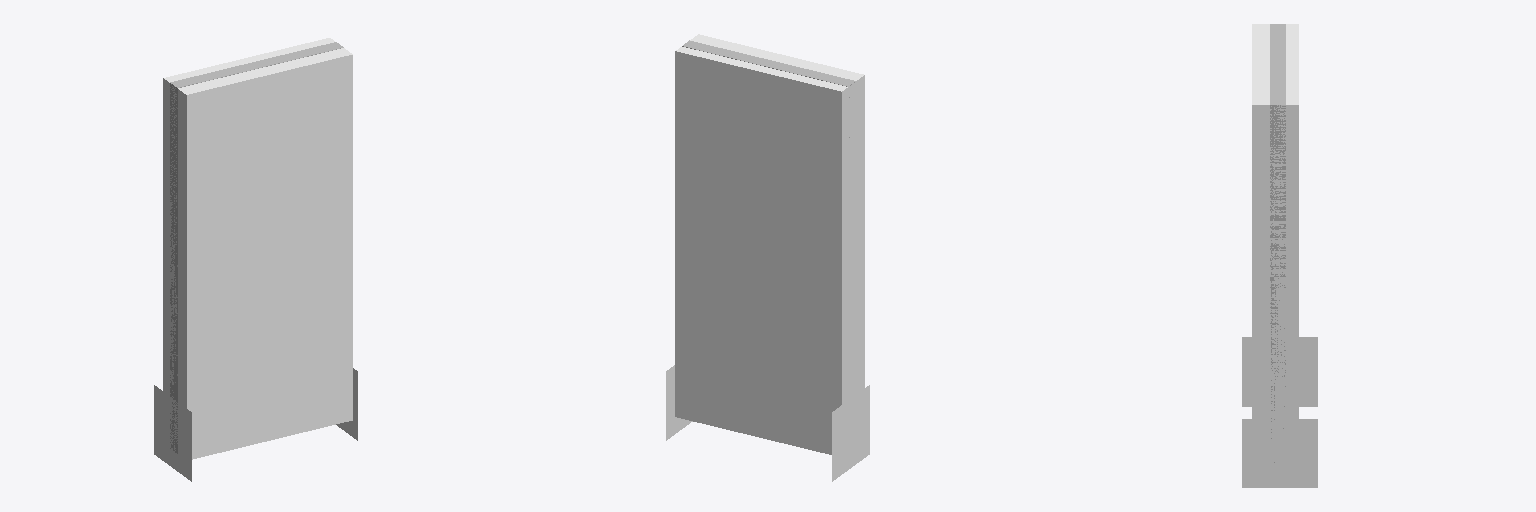
Rendered from door.obj.
The picture shows the model from 3 angles: view 1: azimuth 30°, elevation 25°; view 2: azimuth 150°, elevation 25°; view 3: azimuth 270°, elevation 25°; orthographic projection.
Visible parts, largest first — view 1: CTRL_Hole, DoorFrame, CTRL_Baseboard; view 2: CTRL_Hole, CTRL_Baseboard, DoorFrame; view 3: CTRL_Hole, CTRL_Baseboard, DoorFrame.
Part boxes in pixels (x1,y1,x2,y2): CTRL_Hole: (163, 38, 352, 460); DoorFrame: (170, 42, 343, 453); CTRL_Baseboard: (154, 368, 357, 481); CTRL_Hole: (675, 34, 864, 456); CTRL_Baseboard: (666, 365, 869, 481); DoorFrame: (682, 40, 855, 137); CTRL_Hole: (1252, 24, 1298, 470); CTRL_Baseboard: (1242, 337, 1317, 487); DoorFrame: (1270, 24, 1285, 462).
Bounding box in the file's own units: 1 × 2.2 × 0.4.